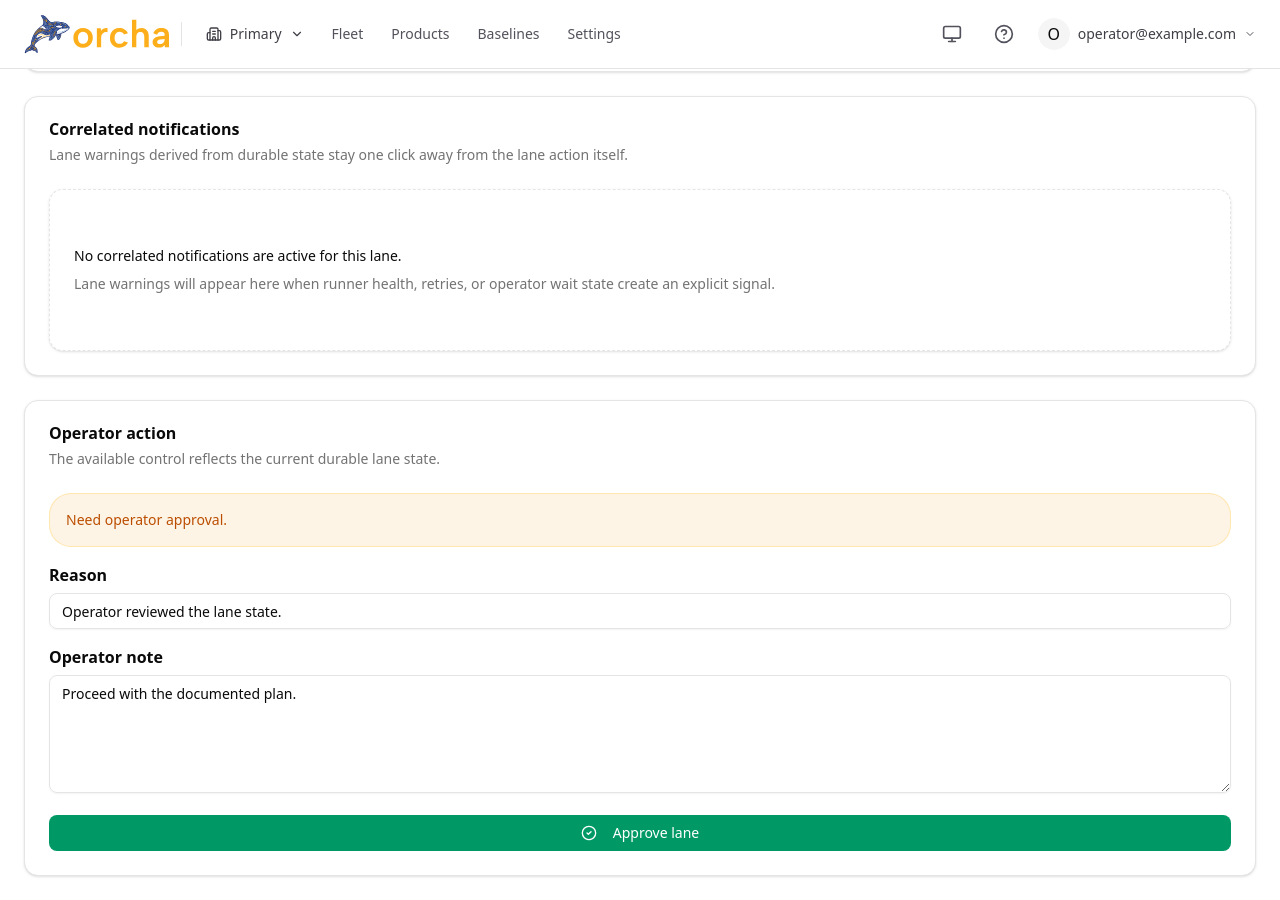
Test: App › renders lane detail and allows operator approval
The width and height of the screenshot is (1280, 900).
(page scrolled)
expect the heading "Correlated notifications" is shown: met, box top-left (49, 118), bottom-right (239, 140)
Click the button "Approve lane" at {"x": 640, "y": 833}, box top-left (49, 815), bottom-right (1231, 851)
(page scrolled)
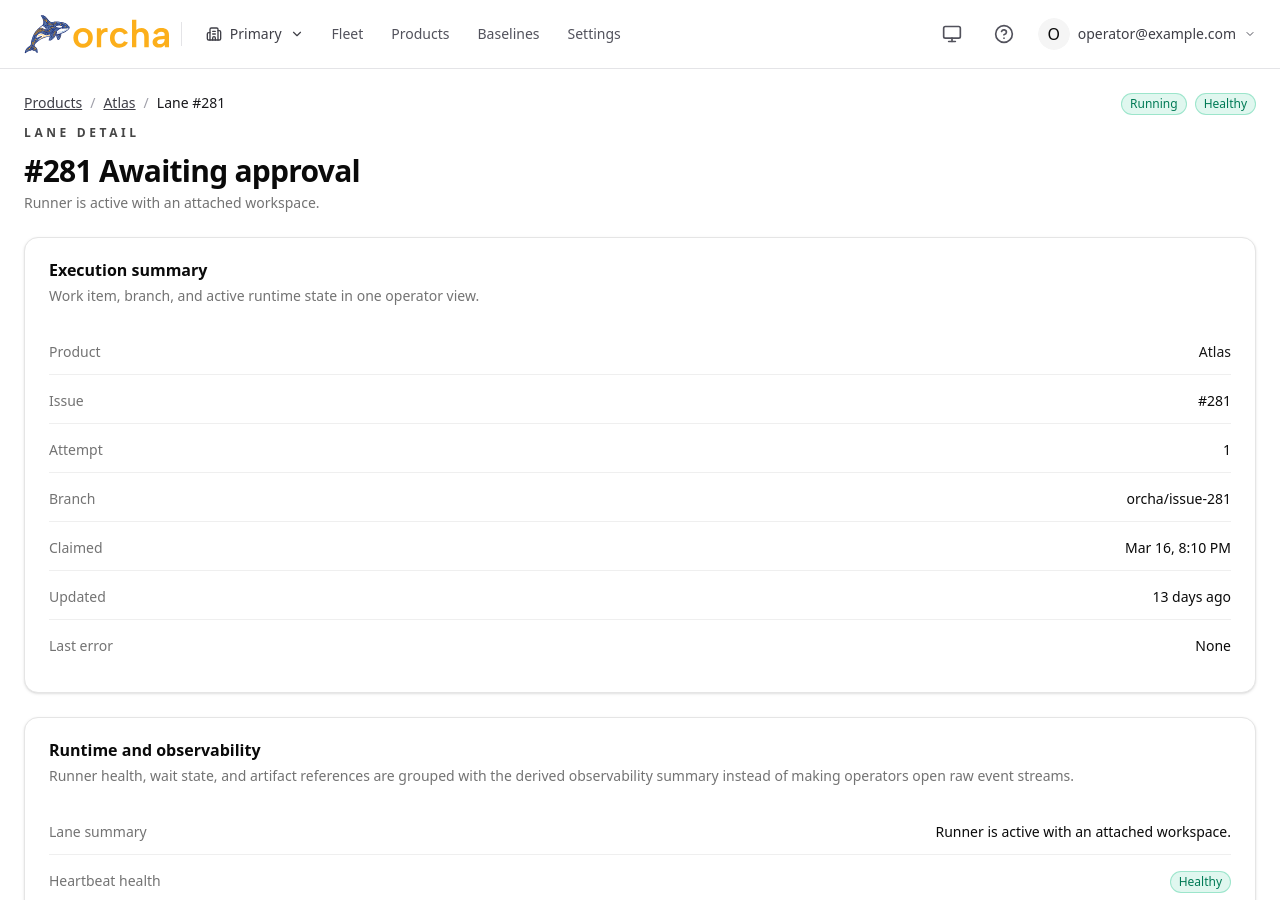
expect the button "Approve lane" is gone: met
expect the text "Running" is shown: met, box top-left (1121, 93), bottom-right (1187, 115)
